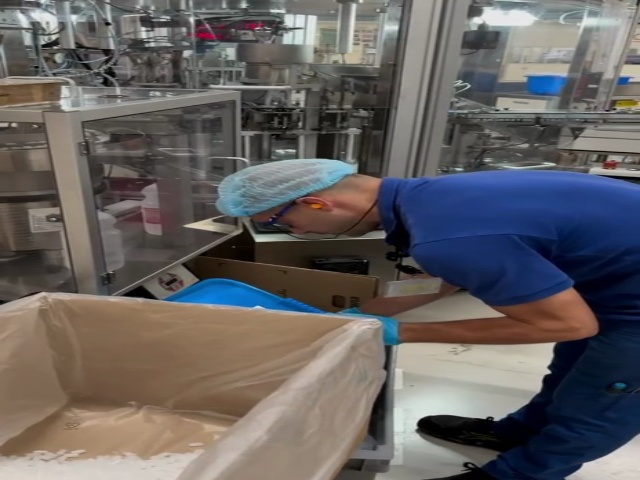Earplug: (295, 194, 337, 217)
Hairnet: (215, 156, 350, 221)
No_Helmet: (217, 157, 351, 215)
No_Vest: (382, 175, 640, 306)
Person: (216, 159, 640, 480)
Safety_Goggles: (256, 191, 313, 233)
